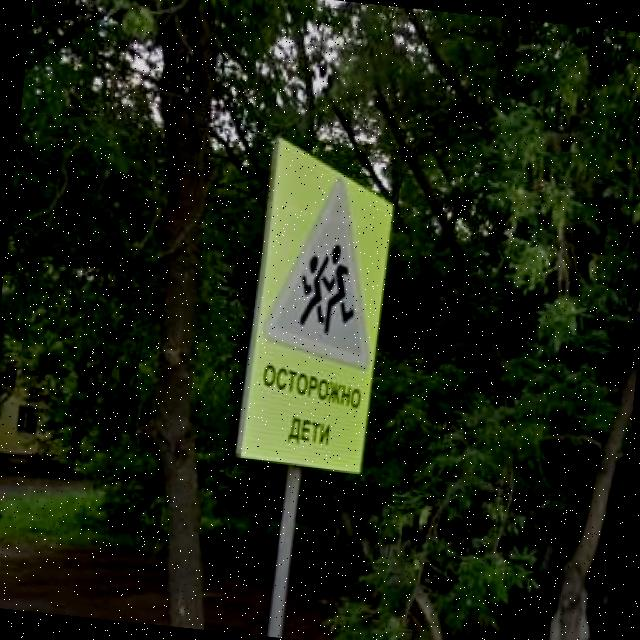Dzieci: (255, 166, 393, 376)
